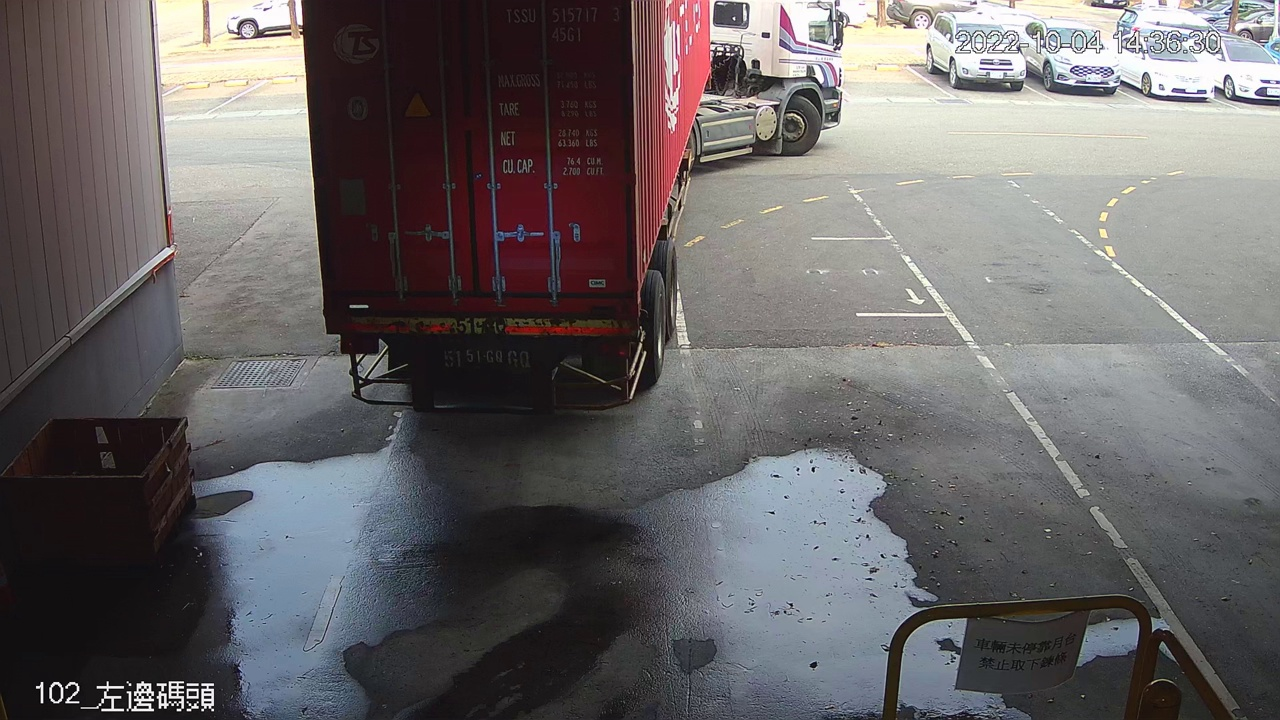container: (500, 3, 626, 47)
